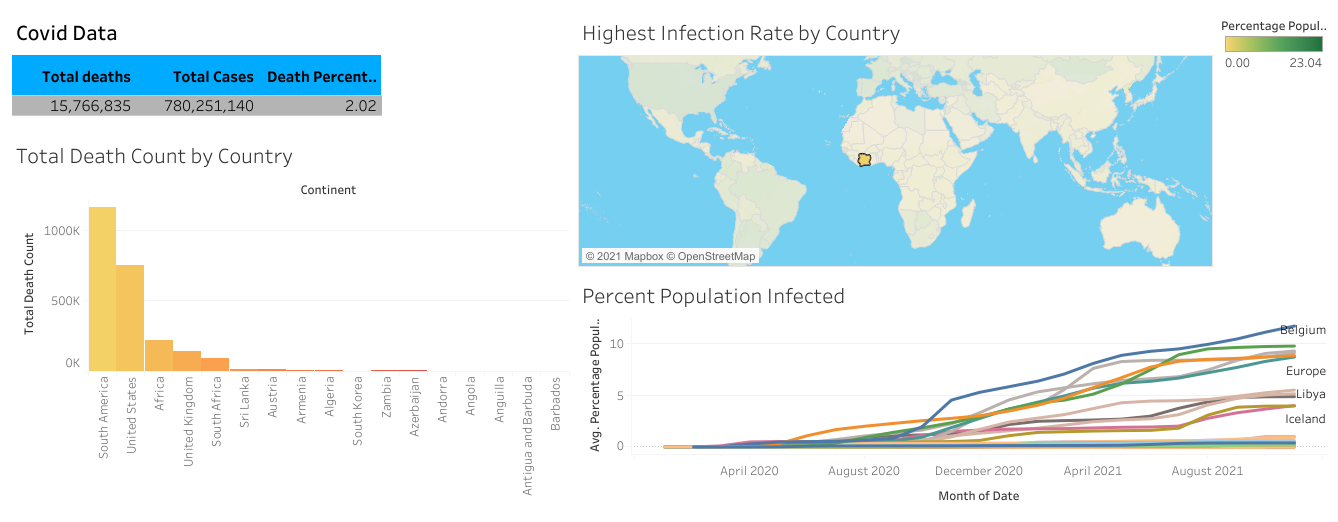

This screenshot's page, from the dashboard's own definition file:
{"tool":"tableau","page":{"name":"Dashboard 1 (2)","canvas":[1000,1000],"units":"permille","ordinal":1},"visuals":[{"type":"worksheet","title":"Sheet 1","mark":"Automatic","box":[6.7,13.5,421.8,236.5]},{"type":"worksheet","title":"Sheet 3","mark":"Automatic","box":[428.4,13.5,479.5,505.1]},{"type":"legend","title":"Sheet 3","param":"[federated.0wh5ai71nc1auo11pjm9s0liozv2].[sum:PercentagePopulationInfected:qk]","box":[908,13.5,85.4,505.1]},{"type":"worksheet","title":"Sheet 2","mark":"Automatic","rows":["TotalDeathCount"],"cols":["location"],"box":[6.7,250,421.8,736.5]},{"type":"worksheet","title":"Sheet 4","mark":"Automatic","rows":["PercentagePopulationInfected"],"cols":["Date"],"box":[428.4,518.6,564.9,467.9]}]}

Visuals, with their boxes on the dashboard's canvas, which has no fixed pixel size, in thousandths of its width and height (x1, y1, x2, y2). These are canvas units, not pixel positions in the 1338x522 screenshot, which may show the page scaled, cropped or inside an application window:
"Sheet 1" worksheet: bbox(7, 14, 428, 250)
"Sheet 3" worksheet: bbox(428, 14, 908, 519)
"Sheet 3" legend: bbox(908, 14, 993, 519)
"Sheet 2" worksheet: bbox(7, 250, 428, 986)
"Sheet 4" worksheet: bbox(428, 519, 993, 986)
